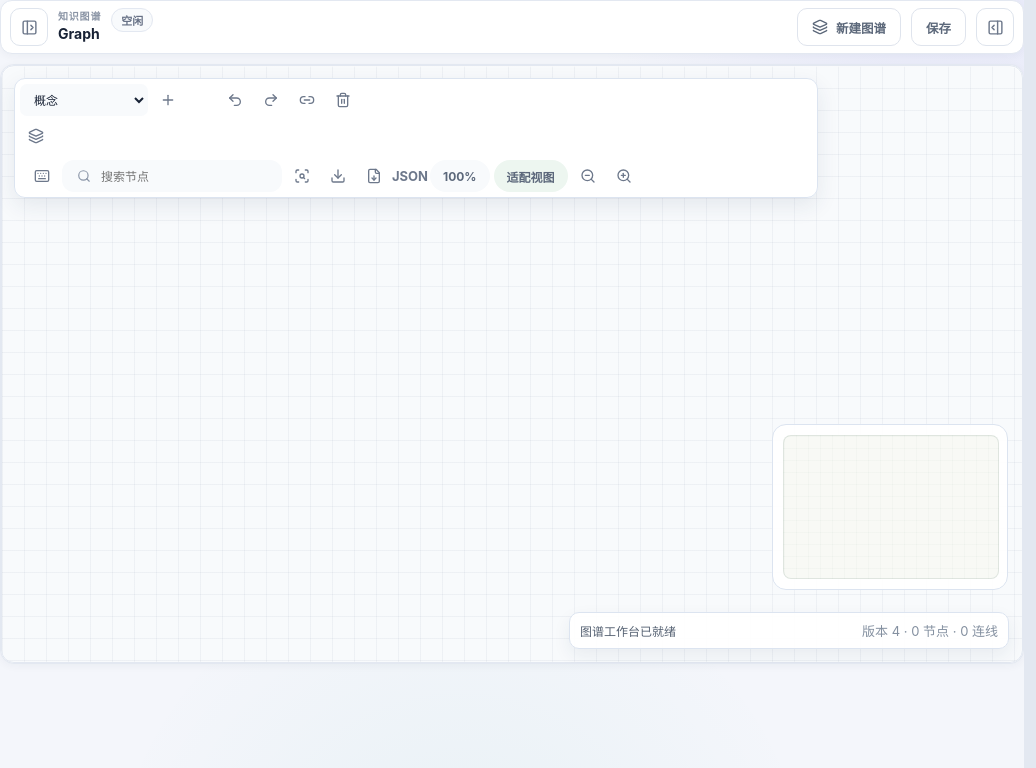
Test case: GraphWorkspacePage persistence states › applies diagram templates as Mermaid import drafts
Click the button named "打开资源面板". click: (29, 27)
box: [10,8,48,46]
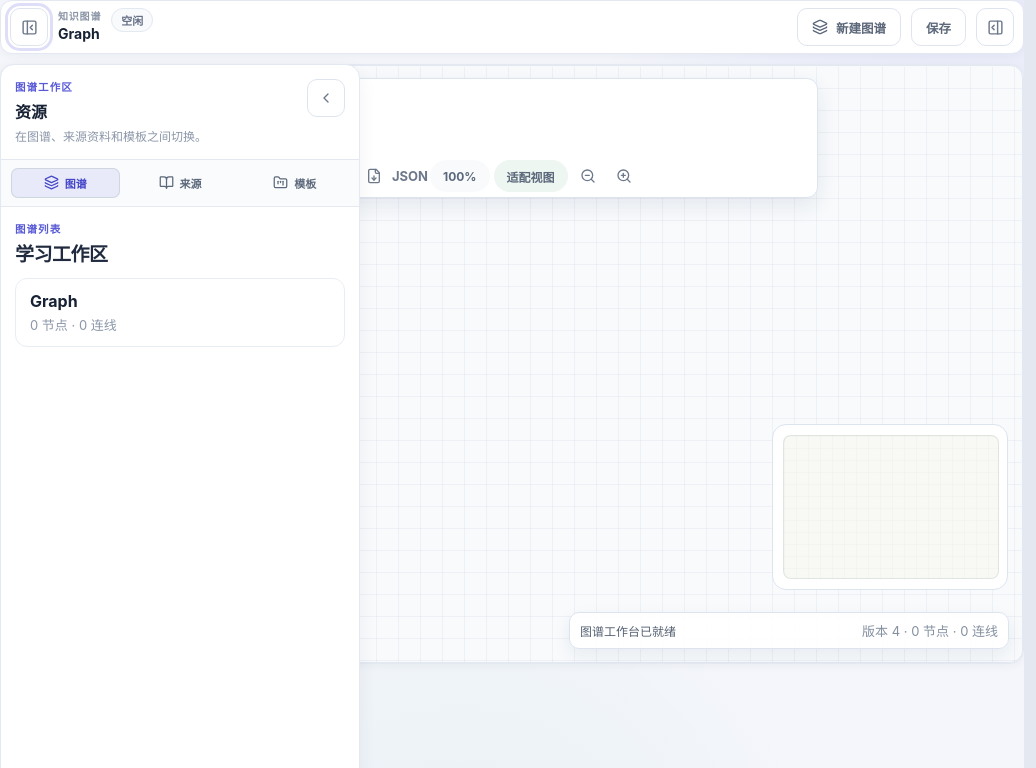
Click the button "模板". click: (295, 183)
box: [240,168,349,198]
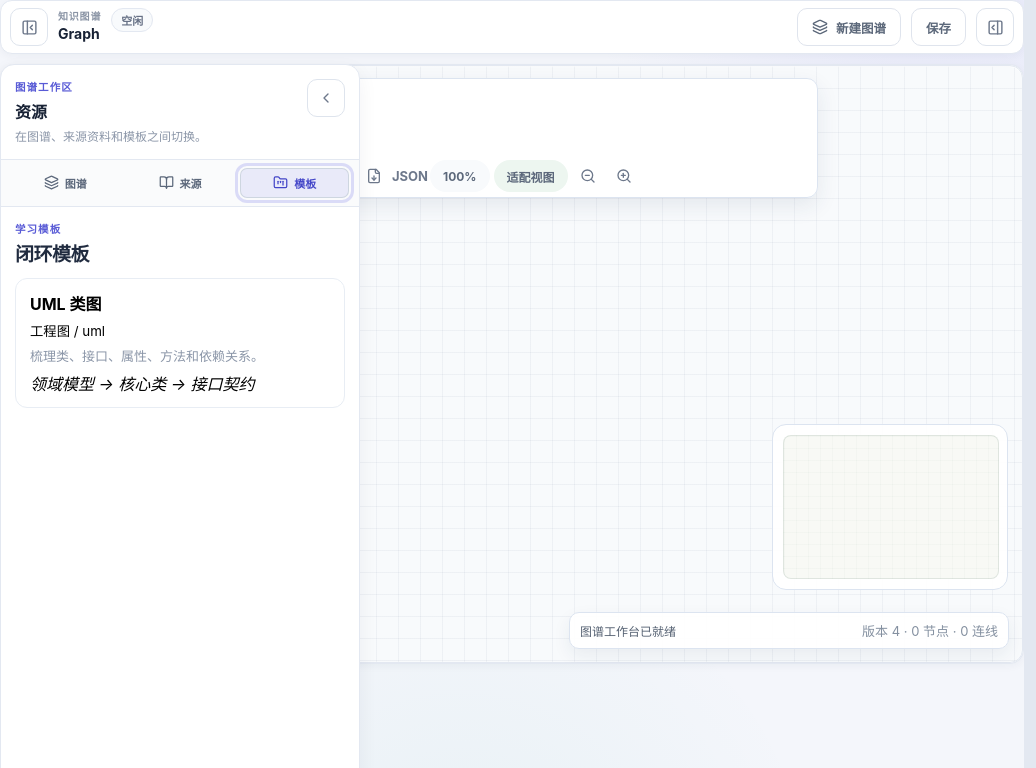
Click the button "UML 类图 工程图 / uml 梳理类、接口、属性、方法和依赖关系。 领域模型 → 核心类 → 接口契约". click: (66, 304)
box: [15,278,345,408]
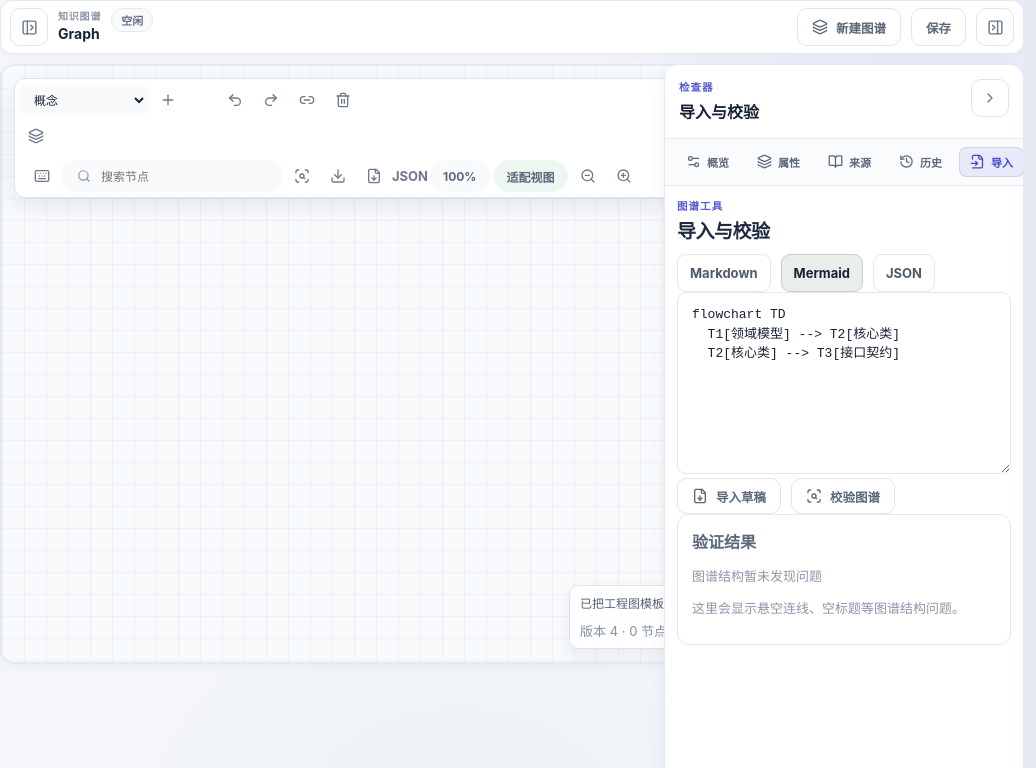
Expected: the text "已把工程图模板“UML 类图”作为 Mermaid 草稿放入导入面板" is shown, [580,594,905,611]
